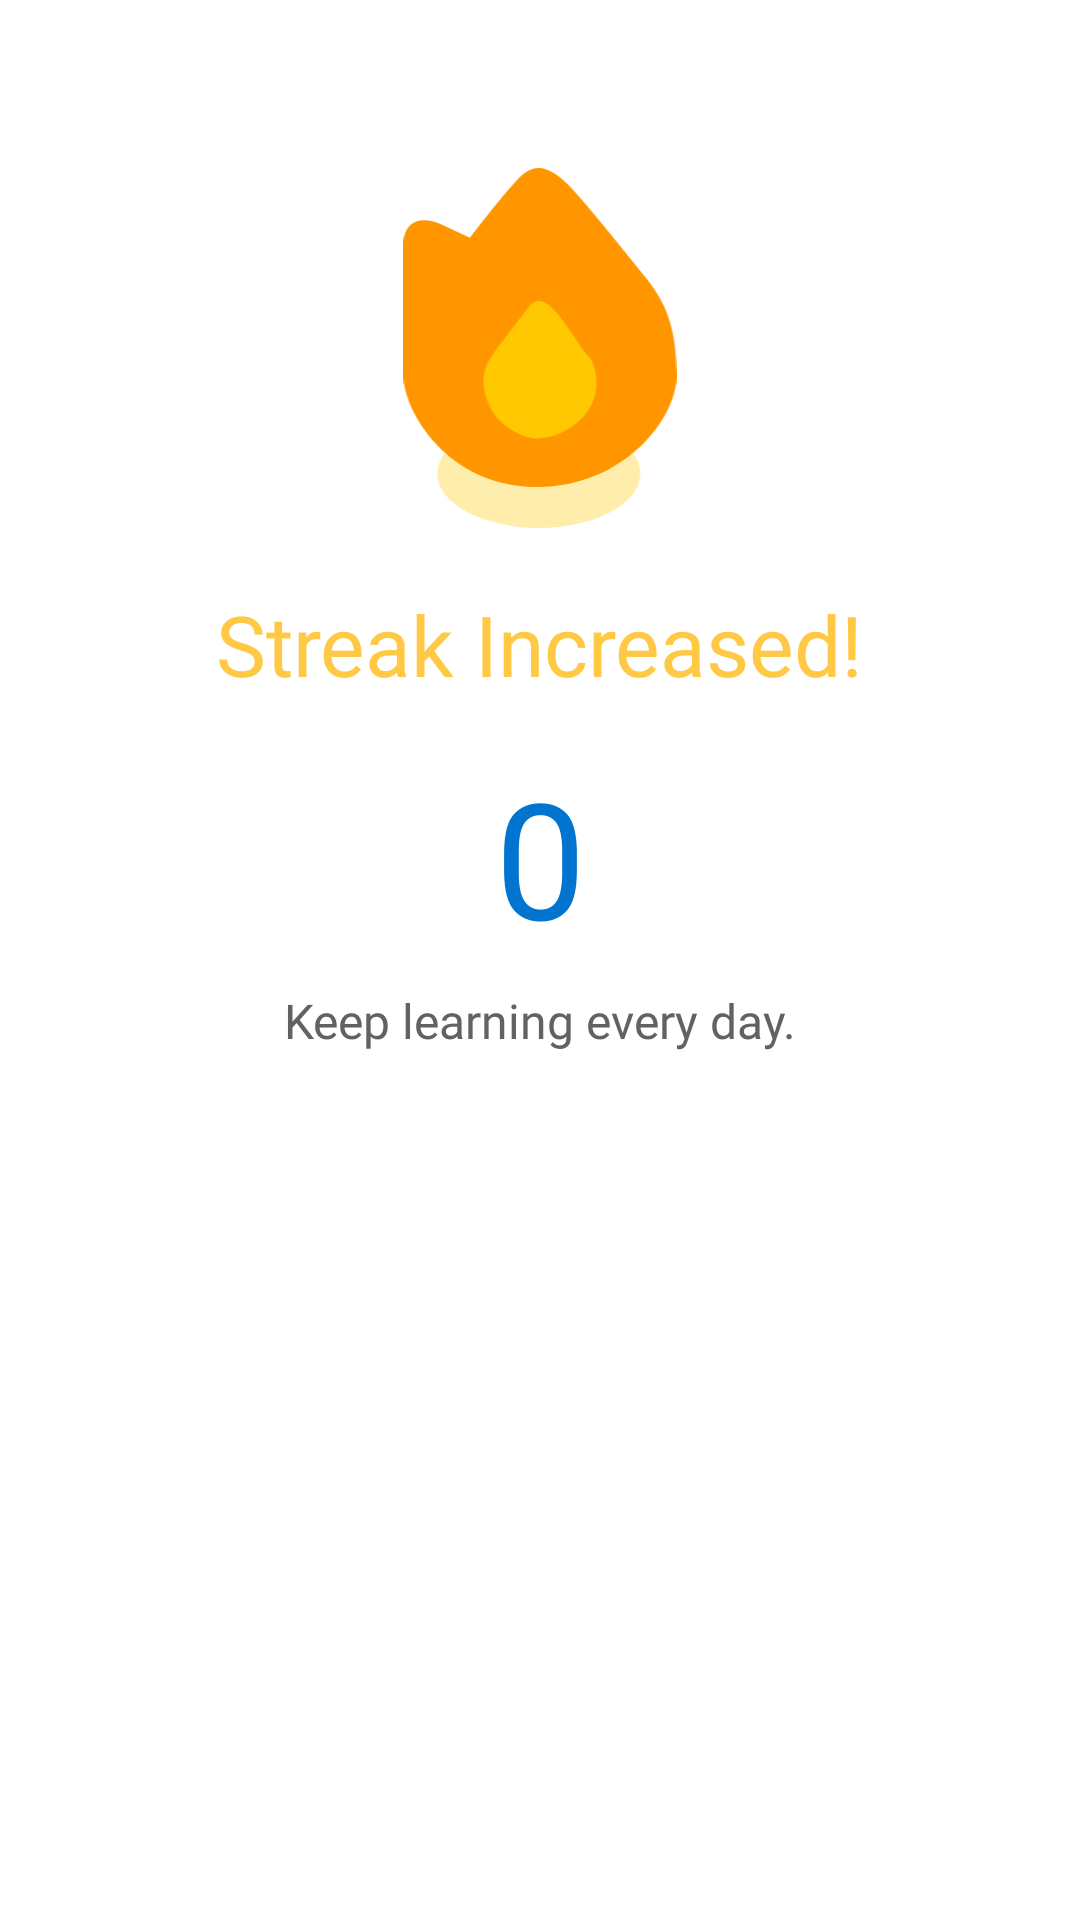

Icons on this 1080×1920 Android screen, each with the point to tap as [x,y]:
Streak illustration: [540,348]
